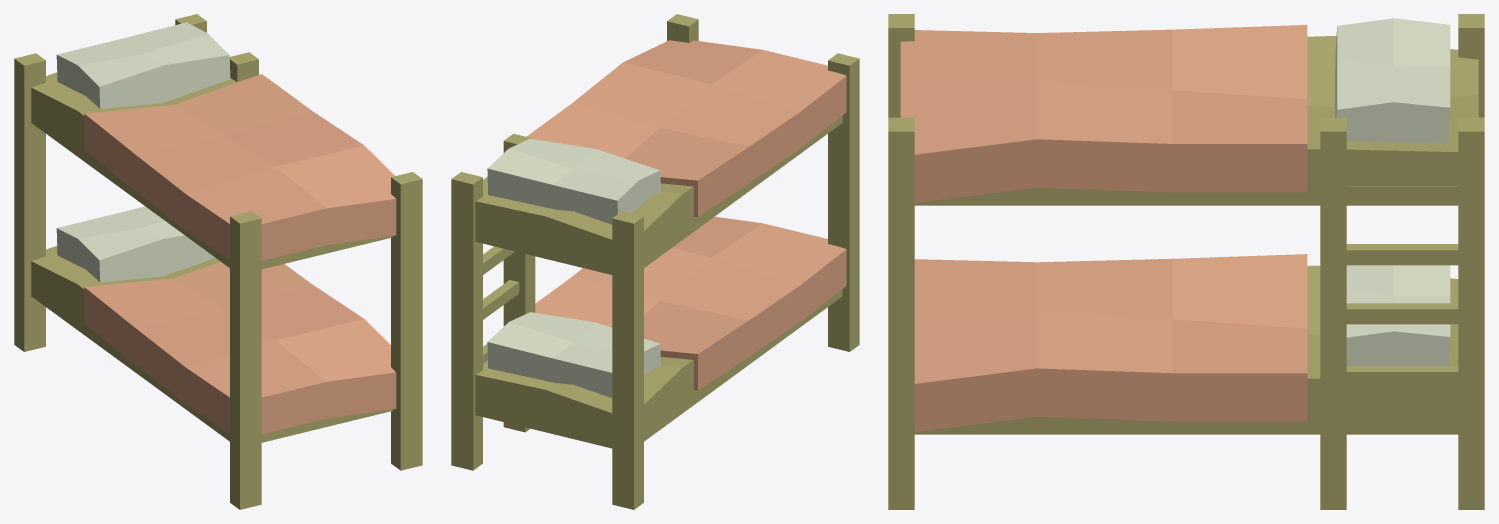
File: doublebed.fbx
3 renders of one model, left to right at view 1: azimuth 30°, elevation 25°; view 2: azimuth 150°, elevation 25°; view 3: azimuth 270°, elevation 25°, orthographic. The views are drawn at different scales.
Visible parts, largest first — view 1: Cube.009; view 2: Cube.009; view 3: Cube.009.
Part boxes in pixels (x1=…): Cube.009: x1=14, y1=14, x2=422, y2=509; Cube.009: x1=451, y1=14, x2=859, y2=509; Cube.009: x1=888, y1=14, x2=1484, y2=509.
Bounding box in the file's own units: 167 × 260 × 358.
